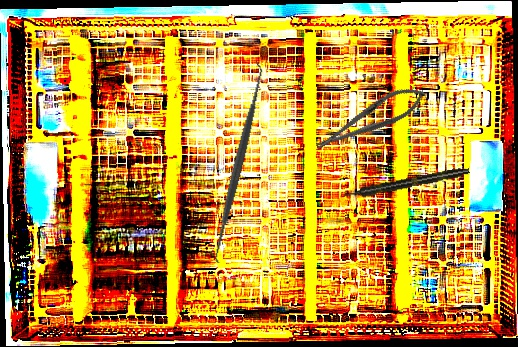Handpiece: (342, 165, 471, 201)
Needle Holder: (309, 78, 431, 160)
Spatula Surgical: (202, 60, 275, 265)
